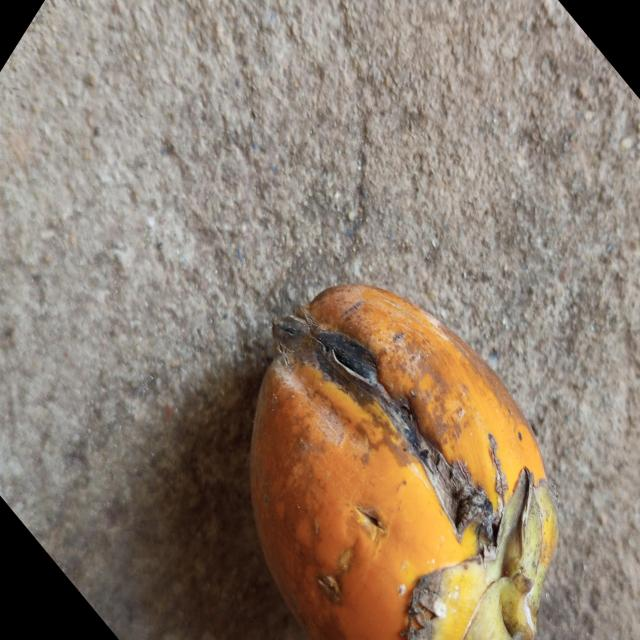damaged: (251, 285, 558, 640)
